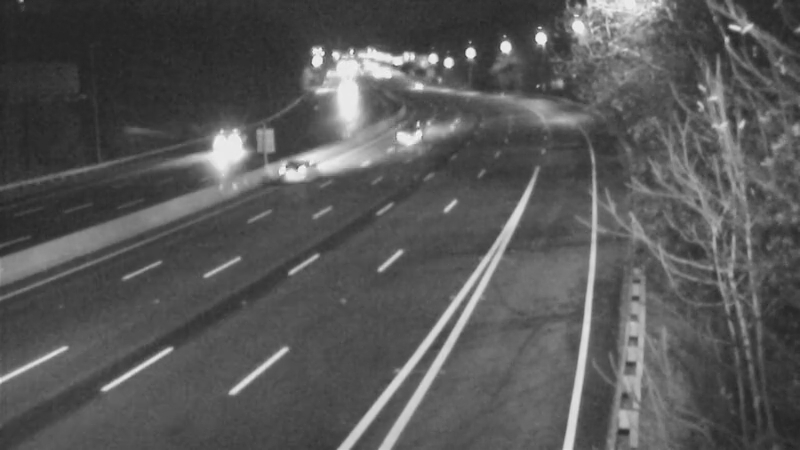vehicle: (250, 132, 330, 212), (390, 60, 440, 110), (387, 104, 437, 154), (202, 122, 252, 172), (322, 72, 372, 122)
